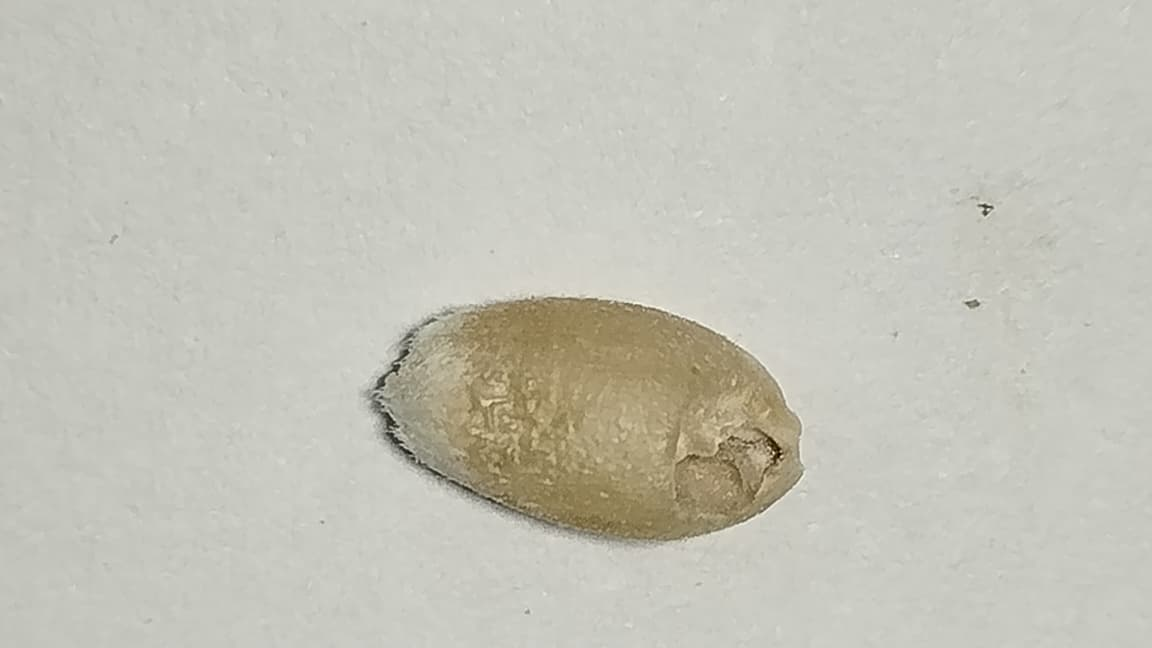damage: (379, 296, 803, 543)
insectdamage: (673, 420, 802, 518)
